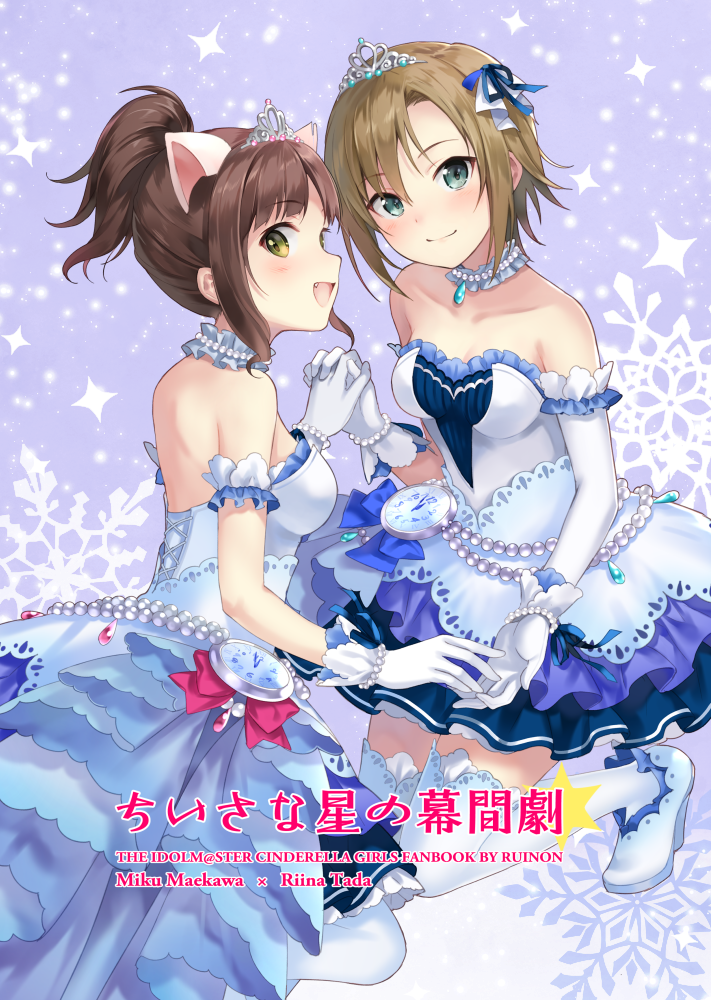纸片人正脸: (316, 34, 551, 284), (194, 121, 348, 334)
